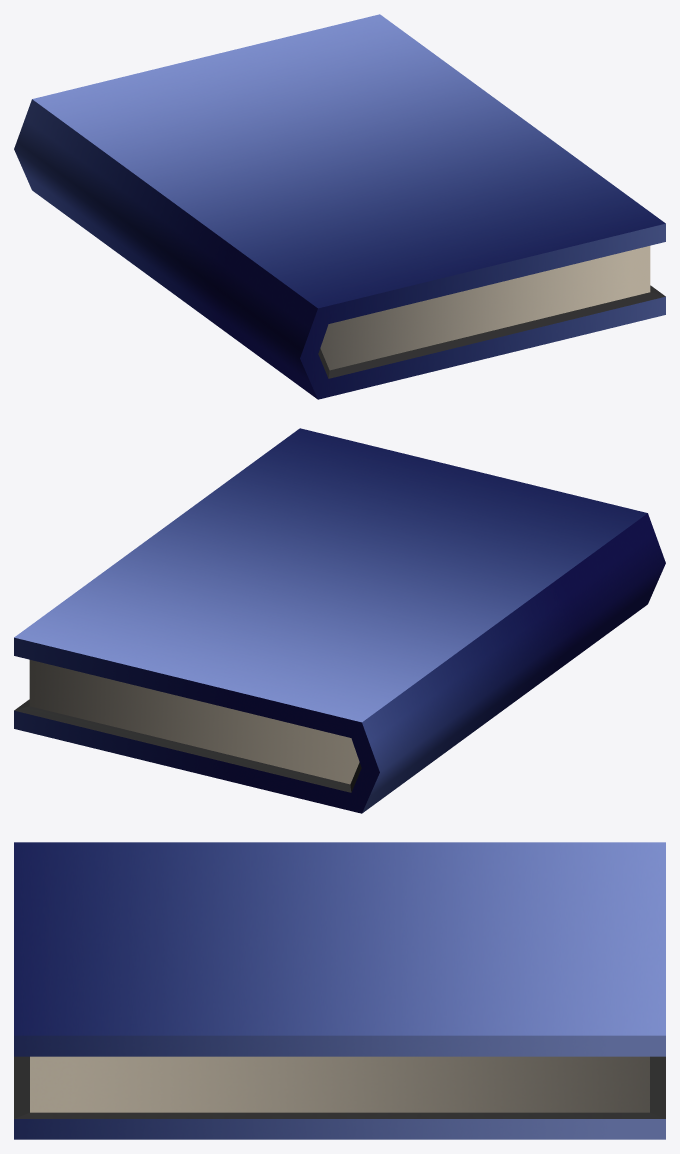
File: Kirja kiinni.fbx
3 renders of one model, top to bottom at view 1: azimuth 30°, elevation 25°; view 2: azimuth 150°, elevation 25°; view 3: azimuth 270°, elevation 25°, orthographic. The views are drawn at different scales.
Visible parts, largest first — view 1: pCube1; view 2: pCube1; view 3: pCube1.
Part boxes in pixels (left/top/right/bottom): pCube1: left=14, top=14, right=665, bottom=399; pCube1: left=14, top=428, right=665, bottom=813; pCube1: left=14, top=842, right=665, bottom=1139.
Bounding box in the file's own units: 3.83 × 0.9131 × 5.19.
